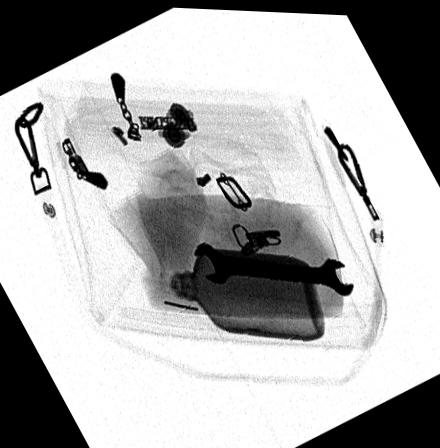Wrench: (192, 238, 355, 292)
